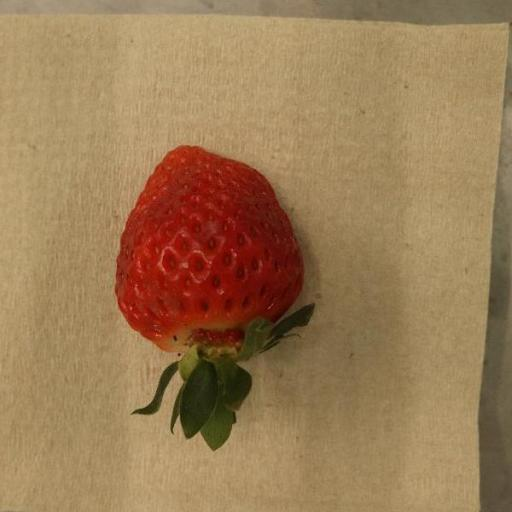Strawberry: (114, 146, 316, 453)
